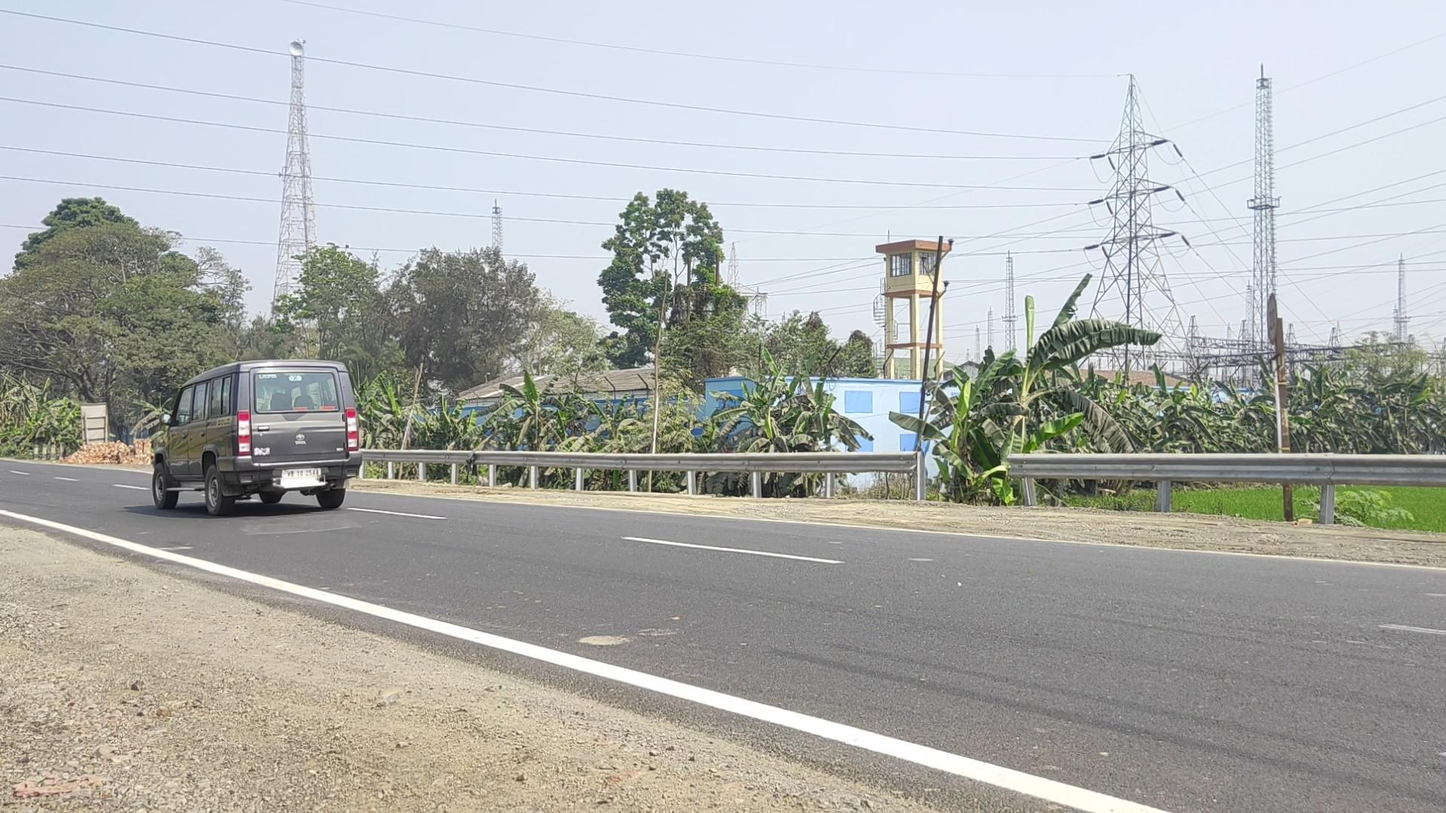car: (152, 359, 361, 516)
